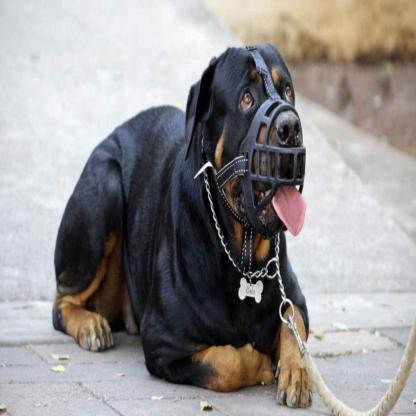dog: (52, 42, 314, 410)
